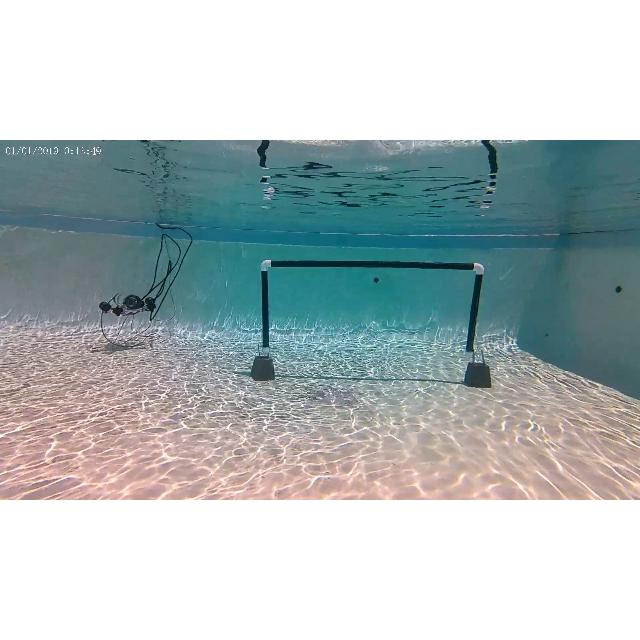prequal gate: (260, 260, 484, 358)
prequal gate leg l: (261, 260, 275, 350)
prequal gate leg r: (464, 262, 484, 354)
